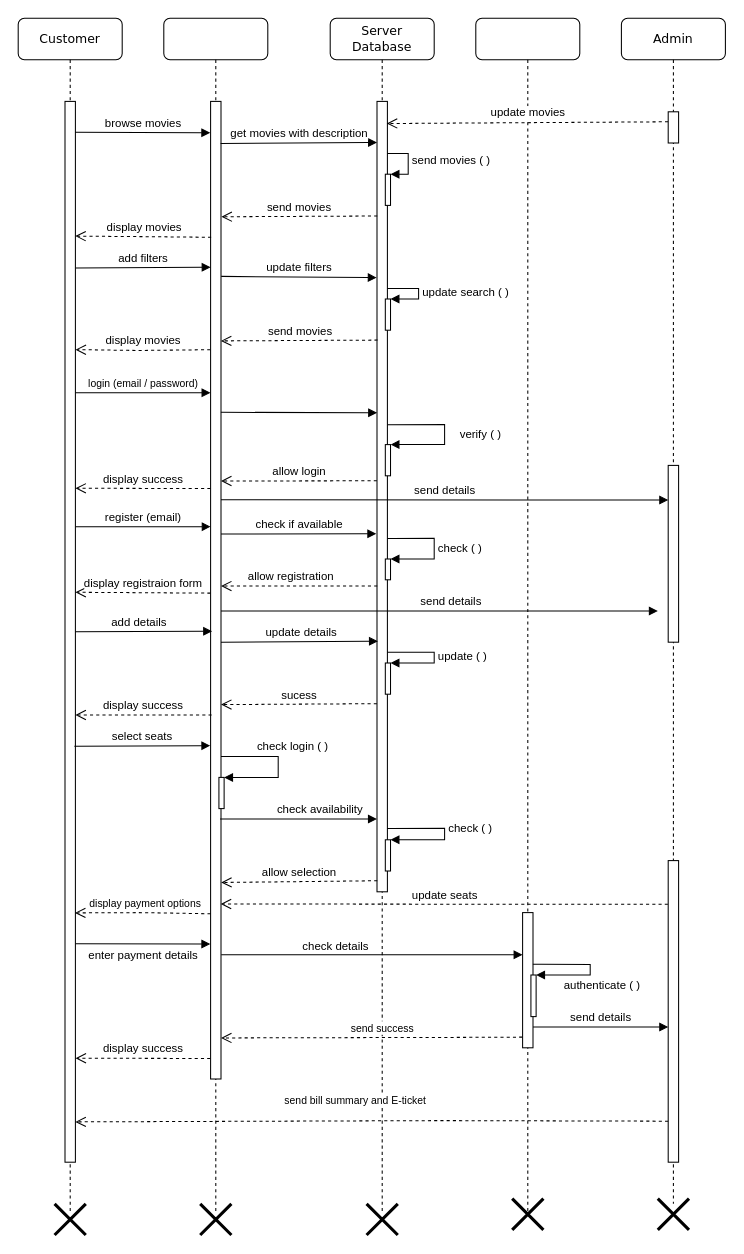
This 744x1254 diagram has some shape labels left out. The shapes that lost their labels are listed below. From the top down, each one's box as (x1, y1, x2, y2) in pixels, then its label:
(163, 17, 268, 1214): System
(475, 17, 580, 1214): Bank Server
